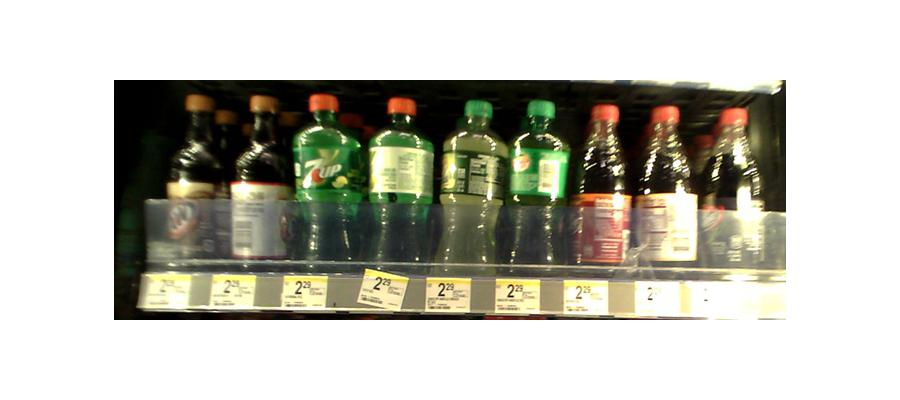bottle: (291, 92, 361, 267), (363, 98, 434, 269), (437, 101, 504, 273), (701, 104, 765, 280), (506, 99, 569, 270), (636, 101, 696, 280), (166, 92, 223, 265), (574, 100, 631, 271), (230, 99, 286, 267)
